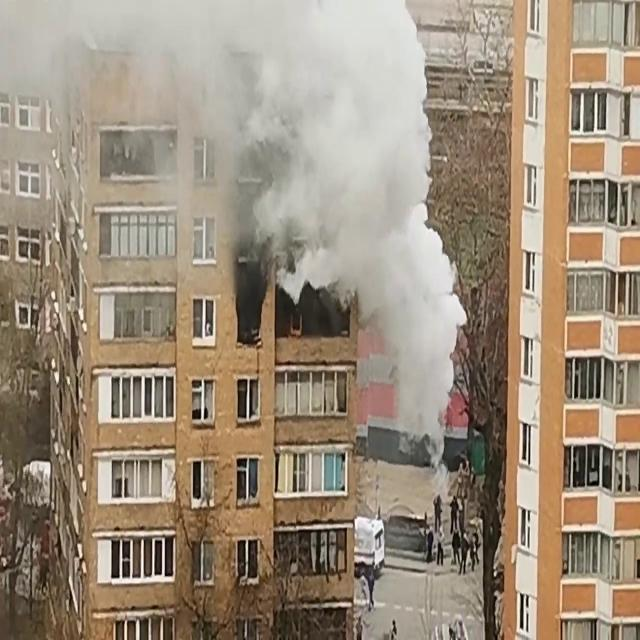Smoke: (212, 0, 462, 339)
